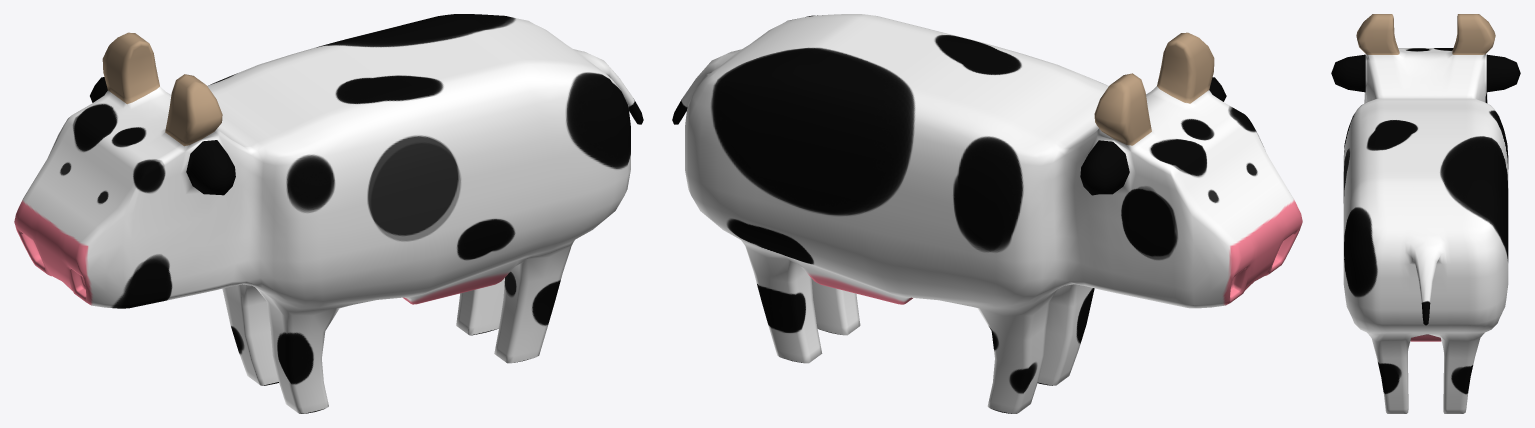
The model's file is cowModel.fbx.
The picture shows the model from 3 angles, left to right: view 1: azimuth 30°, elevation 25°; view 2: azimuth 150°, elevation 25°; view 3: azimuth 270°, elevation 25°; orthographic projection. The views are drawn at different scales.
Visible parts, largest first — view 1: Cow; view 2: Cow; view 3: Cow.
Part boxes in pixels (<box>): Cow: <box>14,14,643,413</box>; Cow: <box>672,14,1302,413</box>; Cow: <box>1331,14,1520,413</box>.
Size of the model in its own units: 5.03 by 2.95 by 1.86.
